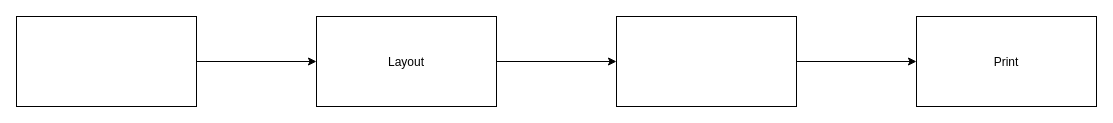
This 1113x123 diagram has some shape labels left out. The centre of each missing label's shape, as x and y in pixels:
"Brief" belongs at point (106, 61).
"Proof" belongs at point (706, 61).
